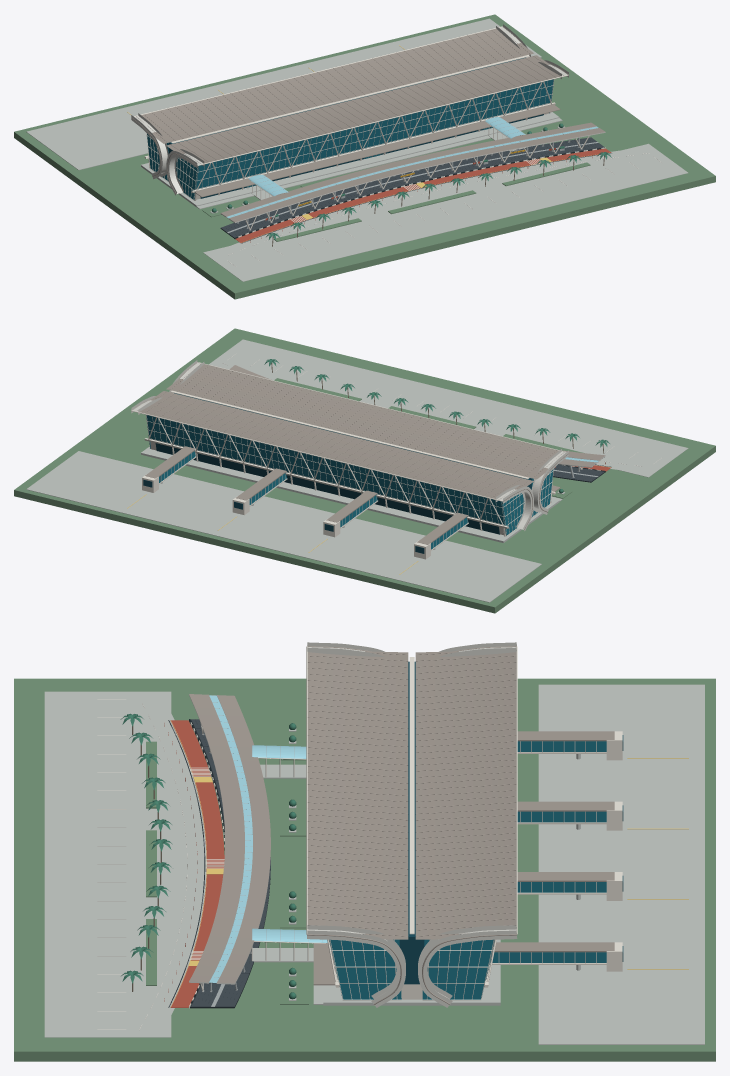
Rendered from apt-pranoto.glb.
3 renders of one model, top to bottom at view 1: azimuth 30°, elevation 25°; view 2: azimuth 150°, elevation 25°; view 3: azimuth 270°, elevation 25°, orthographic. The views are drawn at different scales.
Parts seen in each view (by area): view 1: Lanskap grass, Lanskap concrete, Atap roof, Terminal glass, Halaman depan concrete, Terminal frame, Kanopi roof, Selasar paving, Penghubung roof, Terminal concrete, Selasar red, Atap frame (+12 smaller); view 2: Lanskap concrete, Lanskap grass, Atap roof, Terminal glass, Terminal frame, Terminal darkGlass, Terminal concrete, Atap frame, Garbarata roof, Atap shell, Garbarata frame, Halaman depan concrete (+4 smaller); view 3: Lanskap concrete, Lanskap grass, Atap roof, Halaman depan concrete, Kanopi roof, Terminal glass, Atap shell, Selasar red, Garbarata roof, Garbarata glass, Taman depan grass, Garbarata frame (+12 smaller).
Part boxes in pixels (x1,y1,x2,y2): Lanskap grass: [14, 14, 715, 299]; Lanskap concrete: [26, 18, 688, 281]; Atap roof: [131, 26, 568, 193]; Terminal glass: [147, 79, 553, 199]; Halaman depan concrete: [209, 146, 663, 264]; Terminal frame: [144, 79, 555, 200]; Kanopi roof: [221, 122, 605, 222]; Selasar paving: [221, 137, 604, 237]; Penghubung roof: [195, 104, 560, 197]; Terminal concrete: [141, 112, 559, 207]; Selasar red: [235, 148, 611, 242]; Atap frame: [134, 26, 568, 165]; Lanskap concrete: [26, 339, 688, 602]; Lanskap grass: [14, 328, 715, 613]; Atap roof: [131, 362, 568, 529]; Terminal glass: [146, 415, 553, 535]; Terminal frame: [144, 415, 555, 536]; Terminal darkGlass: [150, 393, 531, 534]; Terminal concrete: [141, 446, 559, 542]; Atap frame: [131, 362, 566, 501]; Garbarata roof: [145, 446, 468, 544]; Atap shell: [131, 360, 568, 530]; Garbarata frame: [142, 452, 468, 559]; Halaman depan concrete: [211, 356, 663, 473]; Lanskap concrete: [44, 684, 704, 1044]; Lanskap grass: [14, 678, 715, 1061]; Atap roof: [307, 646, 516, 1004]; Halaman depan concrete: [116, 693, 206, 1035]; Kanopi roof: [189, 694, 270, 983]; Terminal glass: [329, 939, 494, 999]; Atap shell: [307, 642, 517, 1007]; Selasar red: [164, 720, 224, 1007]; Garbarata roof: [494, 731, 614, 952]; Garbarata glass: [490, 741, 606, 962]; Taman depan grass: [280, 724, 308, 1004]; Garbarata frame: [490, 731, 622, 971].
Bounding box in the file's own units: 244 × 27 × 194.
